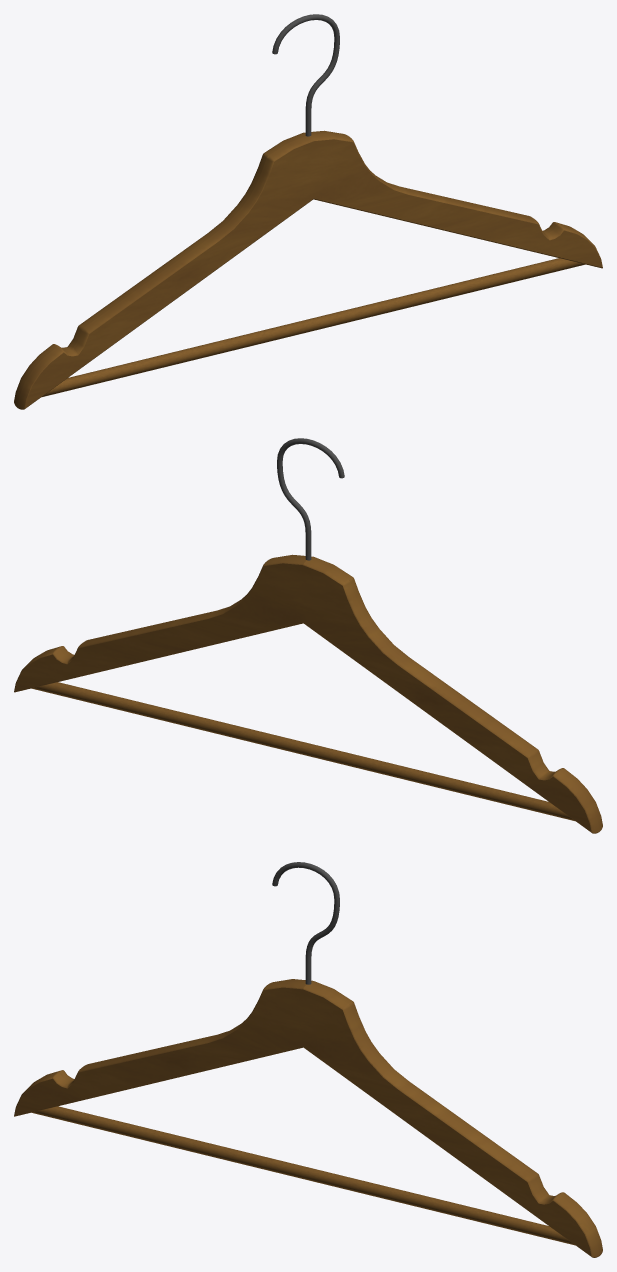
Rendered from hanger.glb.
The picture shows the model from 3 angles, top to bottom: view 1: azimuth 30°, elevation 25°; view 2: azimuth 150°, elevation 25°; view 3: azimuth 330°, elevation 25°; orthographic projection.
Visible parts, largest first — view 1: Object_2; view 2: Object_2; view 3: Object_2.
Boxes of the visible parts, x1,y1,x2,y2 form: Object_2: [14, 14, 602, 409]; Object_2: [14, 438, 602, 833]; Object_2: [14, 862, 602, 1257].
Bounding box in the file's own units: 0.7101 × 0.375 × 0.0231.
1 material, 1 textured.
